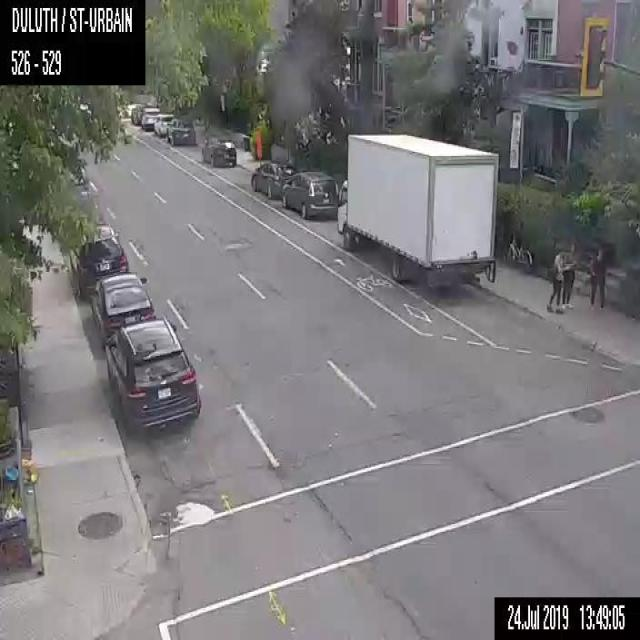construction: (254, 132, 262, 160)
pedestrian: (586, 243, 604, 309), (546, 248, 564, 312), (561, 242, 575, 308)
vehicle: (335, 133, 499, 294), (102, 316, 201, 434), (69, 224, 128, 304), (89, 272, 154, 343), (282, 170, 340, 218), (251, 159, 297, 200), (200, 134, 236, 166), (166, 117, 196, 145), (141, 106, 159, 131), (154, 114, 174, 136)
